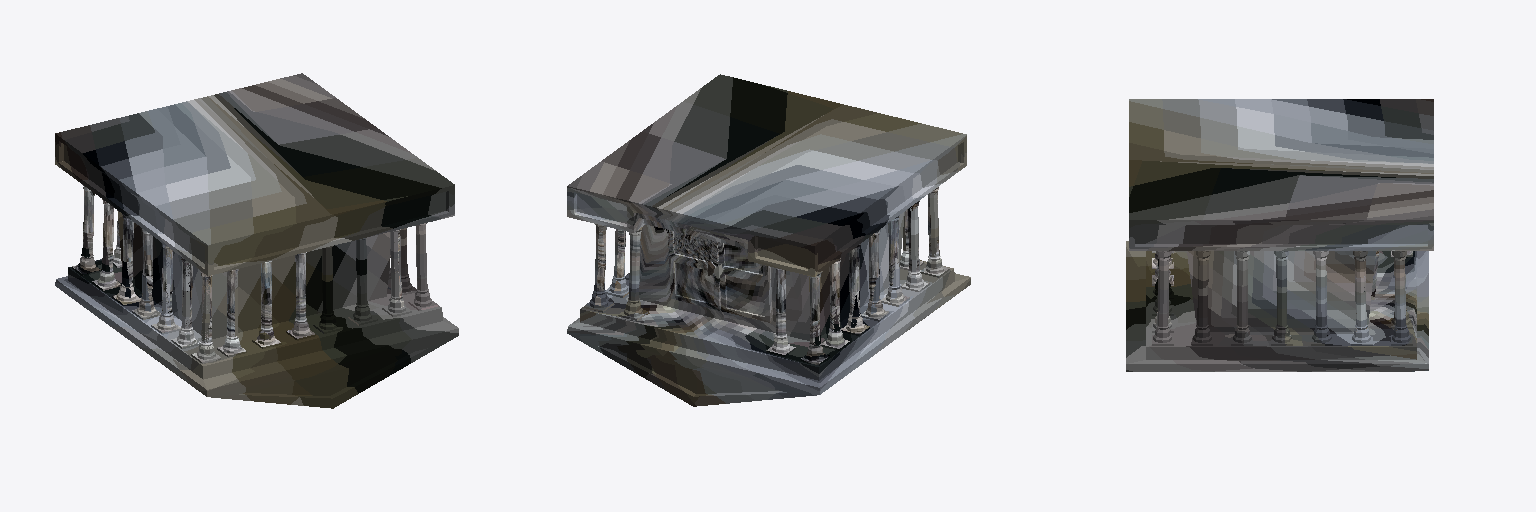
3 renders of one model, left to right at view 1: azimuth 30°, elevation 25°; view 2: azimuth 150°, elevation 25°; view 3: azimuth 270°, elevation 25°, orthographic.
Visible parts, largest first — view 1: Bank_Cube.001; view 2: Bank_Cube.001; view 3: Bank_Cube.001.
Part boxes in pixels (left/top/right/bottom): Bank_Cube.001: left=55, top=73, right=458, bottom=408; Bank_Cube.001: left=567, top=74, right=970, bottom=406; Bank_Cube.001: left=1126, top=99, right=1433, bottom=371.
Bounding box in the file's own units: 4.01 × 2.92 × 4.24.
1 materials, 1 textured.